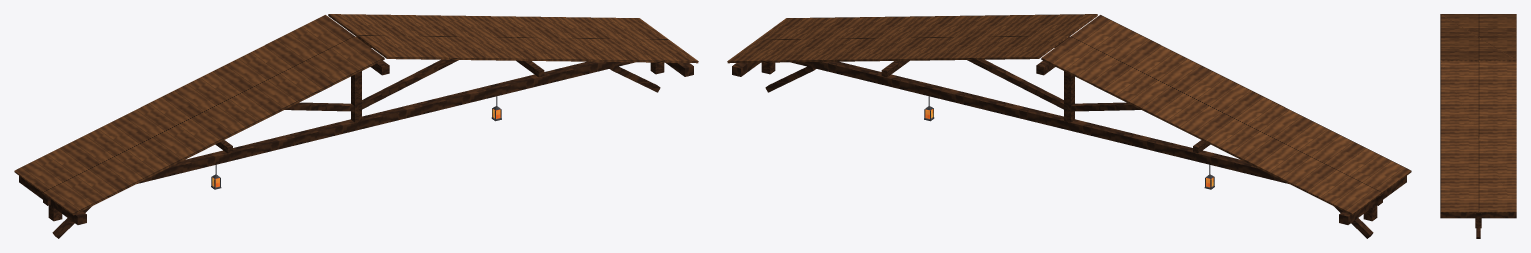
File: roof_truss.glb
The picture shows the model from 3 angles, left to right: view 1: azimuth 30°, elevation 25°; view 2: azimuth 150°, elevation 25°; view 3: azimuth 270°, elevation 25°; orthographic projection. The views are drawn at different scales.
Parts seen in each view (by area): view 1: roof_truss__K_floorplank, roof_truss__K_darkwood; view 2: roof_truss__K_floorplank, roof_truss__K_darkwood; view 3: roof_truss__K_floorplank, roof_truss__K_darkwood.
Boxes of the visible parts, box(x1,y1,x2,y2) form: roof_truss__K_floorplank: box(14, 14, 698, 215); roof_truss__K_darkwood: box(19, 36, 693, 238); roof_truss__K_floorplank: box(727, 14, 1411, 215); roof_truss__K_darkwood: box(732, 36, 1406, 238); roof_truss__K_floorplank: box(1440, 14, 1516, 212); roof_truss__K_darkwood: box(1440, 212, 1516, 238).
Size of the model in its own units: 24.52 by 4.82 by 4.
Materials: 4 (4 with a texture image).
